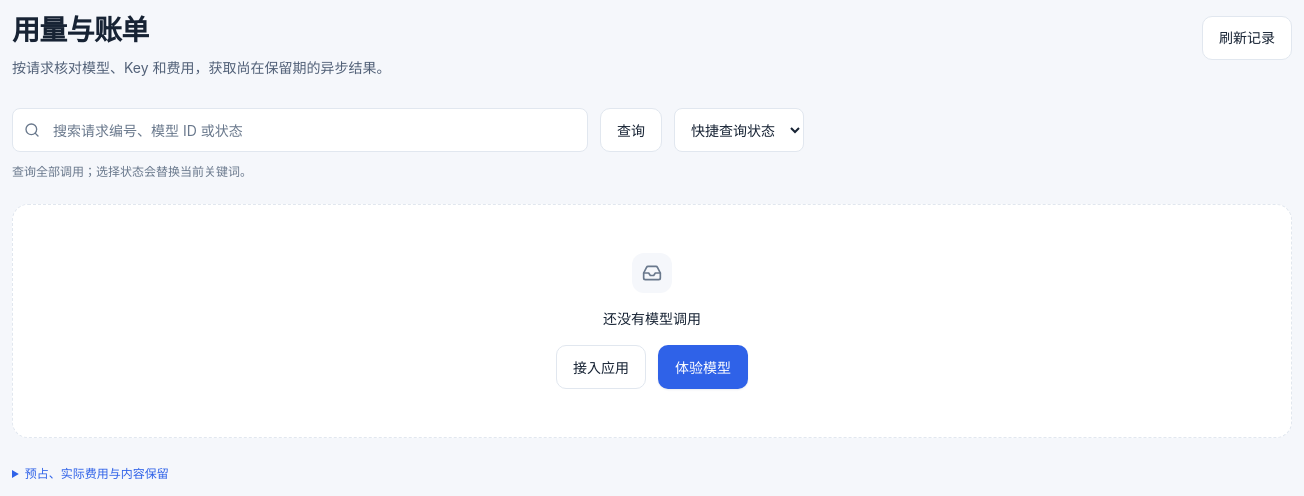
it: refreshes unchanged customer record searches as well
Expected: the heading "还没有模型调用" is shown, [603, 310, 701, 327]
Click the button "查询" at (631, 130), box [600, 108, 662, 152]
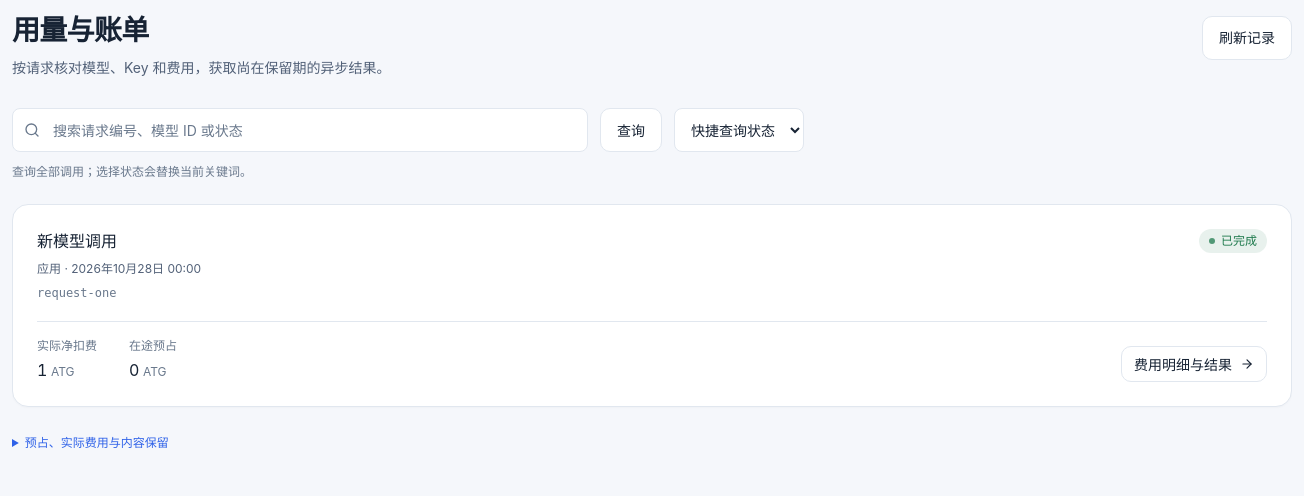
Now the heading "新模型调用" is shown, box [37, 231, 117, 251]
